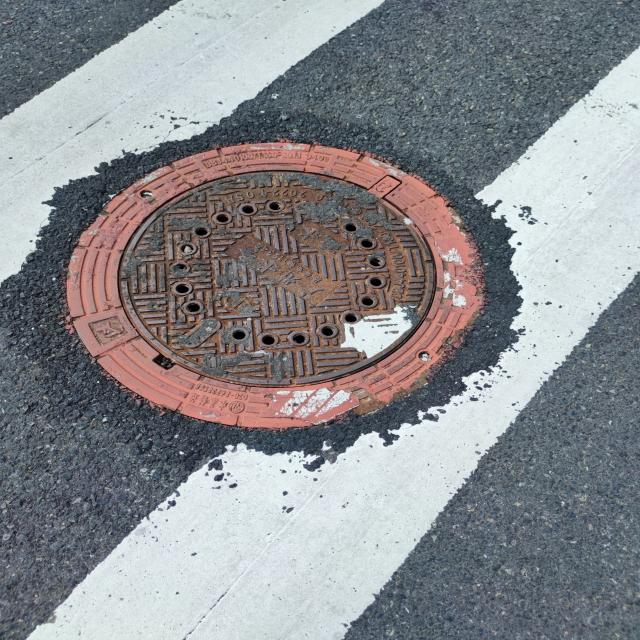Good: (61, 138, 490, 430)
